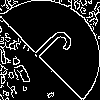J: (25, 25, 76, 76)
